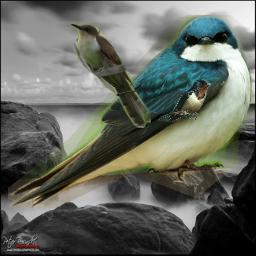Cuckoo: (69, 21, 151, 128)
Swallow: (8, 15, 254, 208), (157, 79, 211, 122)
